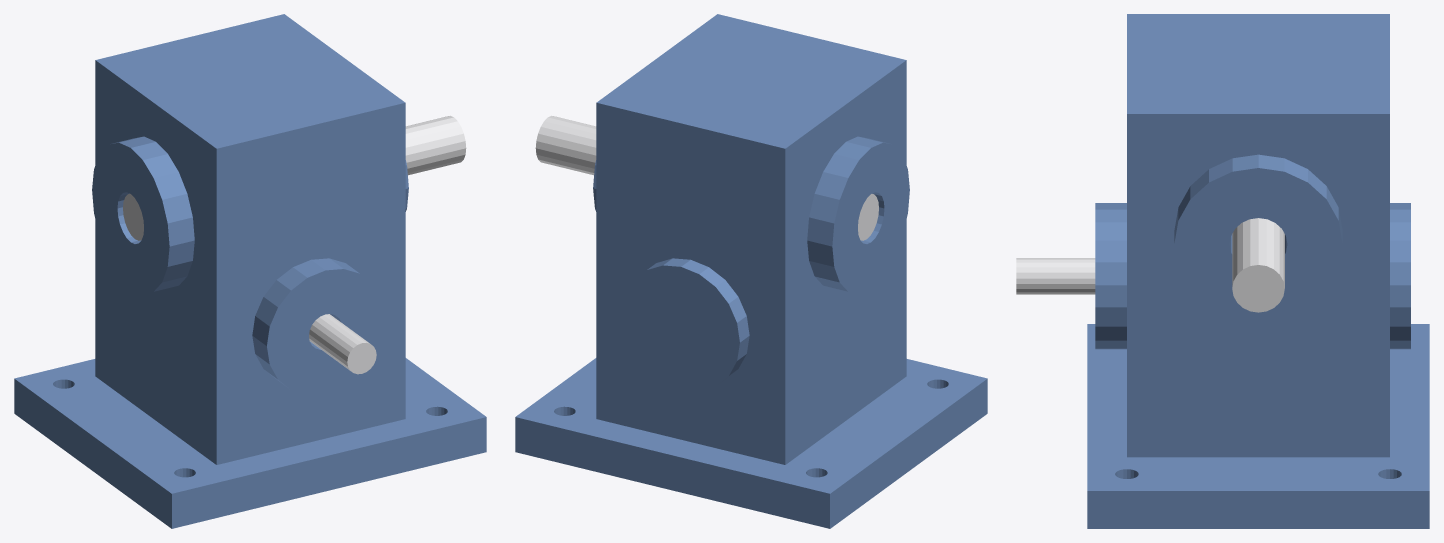
Rendered from gear-reducer.glb.
3 views of the same model, side by side, from view 1: azimuth 30°, elevation 25°; view 2: azimuth 150°, elevation 25°; view 3: azimuth 270°, elevation 25° (orthographic). The views are drawn at different scales.
Parts seen in each view (by area): view 1: body, output, input; view 2: body, output; view 3: body, output, input.
Part boxes in pixels (x1,y1,x2,y2): body: (14,14,486,528); output: (123,115,466,240); input: (309,314,376,374); body: (515,14,987,528); output: (535,115,878,240); body: (1087,14,1429,528); output: (1232,218,1284,312); input: (1016,258,1095,294).
Size of what is drawn, in the model's own units: 0.172 by 0.16 by 0.157.
